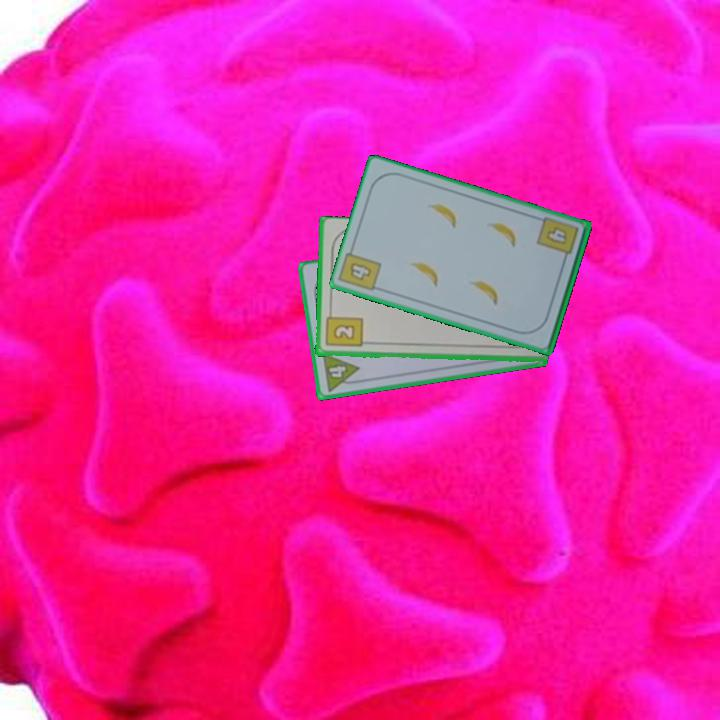2b: (322, 307, 365, 350)
4b: (534, 213, 581, 265), (346, 259, 374, 284)
4p: (319, 350, 364, 394)
